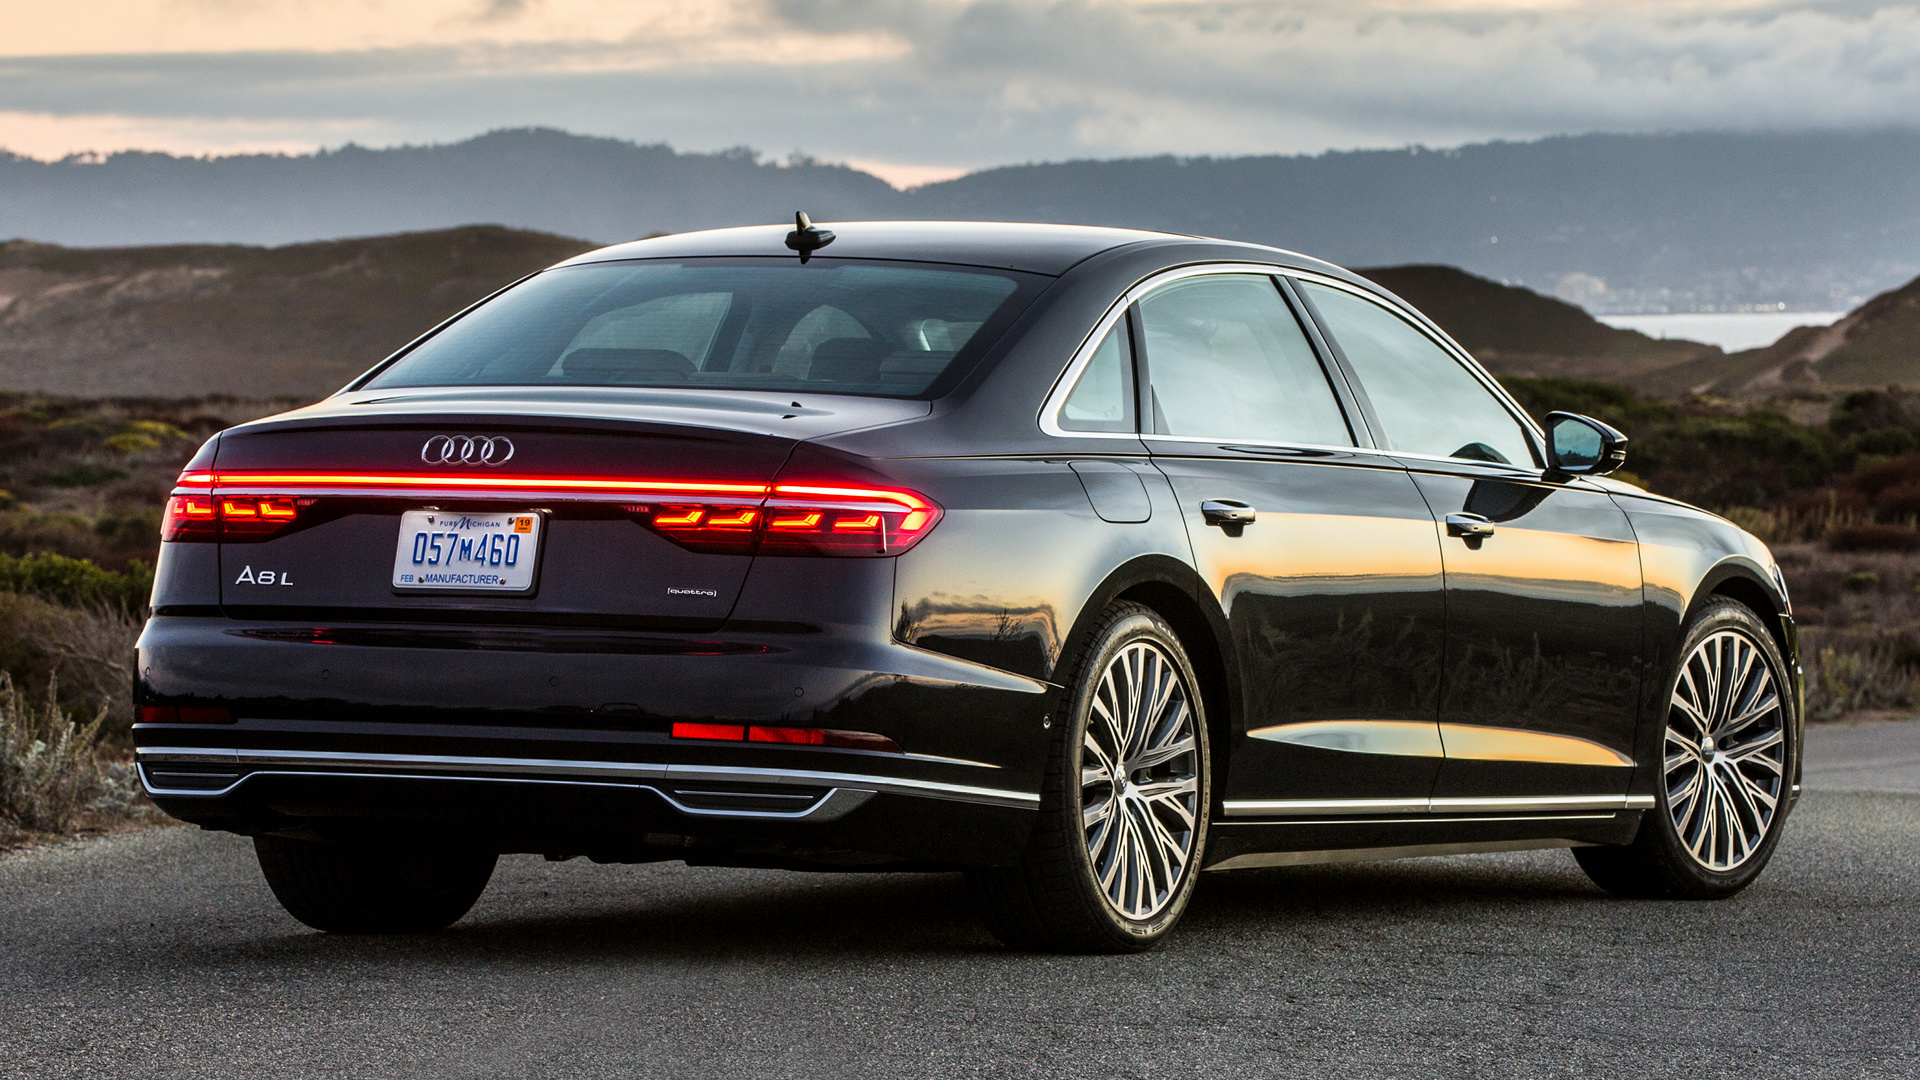plate: (389, 507, 548, 601)
